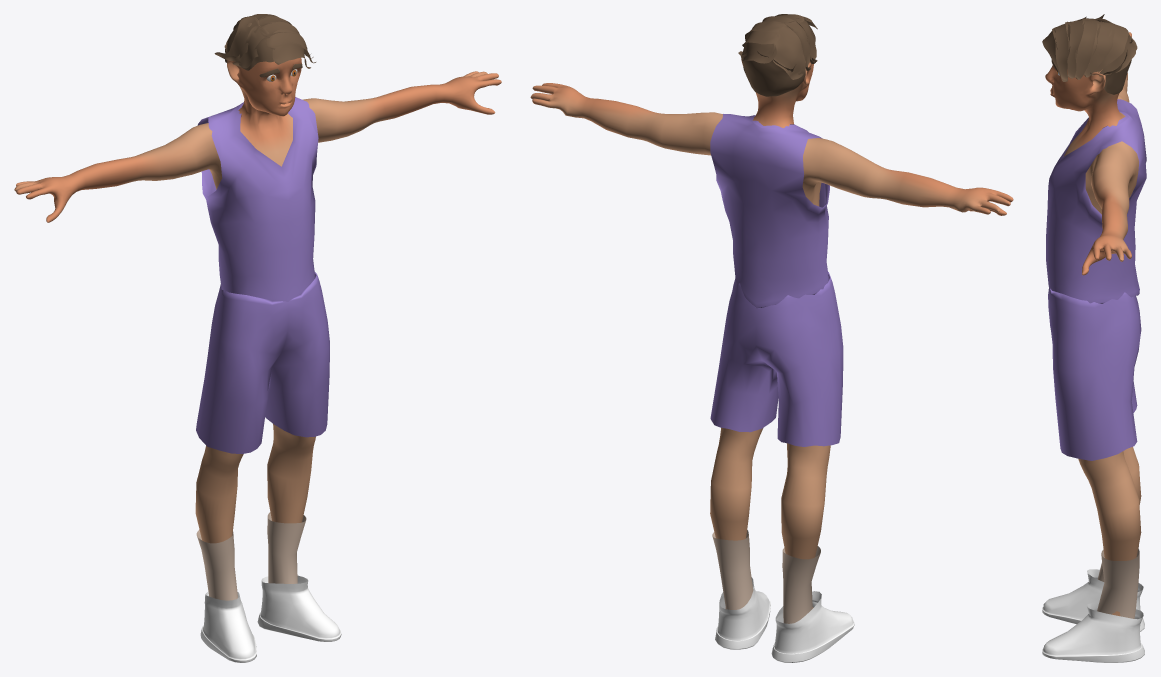
The model's file is jugador_basket2.fbx.
3 renders of one model, left to right at view 1: azimuth 30°, elevation 25°; view 2: azimuth 150°, elevation 25°; view 3: azimuth 270°, elevation 25°, orthographic.
Visible parts, largest first — view 1: prensa_personaje_director8, Extract3_4, Extract1_4, pCube3, prensa_personaje_director9, pPlane61; view 2: prensa_personaje_director8, Extract3_4, Extract1_4, pCube3, prensa_personaje_director9, pPlane63, pPlane62; view 3: Extract3_4, prensa_personaje_director8, Extract1_4, pCube3, prensa_personaje_director9, pPlane23, pPlane24, pPlane21, pPlane22, pPlane25, pPlane63, pPlane26 (+1 smaller).
Boxes of the visible parts, x1,y1,x2,y2 form: prensa_personaje_director8: (14,57,501,543); Extract3_4: (196,272,329,453); Extract1_4: (197,97,318,301); pCube3: (200,575,341,662); prensa_personaje_director9: (196,512,306,600); pPlane61: (214,16,260,60); prensa_personaje_director8: (530,51,1013,608); Extract3_4: (710,272,843,446); Extract1_4: (710,114,829,308); pCube3: (715,577,854,662); prensa_personaje_director9: (712,530,820,623); pPlane63: (738,50,805,96); pPlane62: (772,26,805,79); Extract3_4: (1048,288,1141,460); prensa_personaje_director8: (1045,21,1141,616); Extract1_4: (1046,99,1146,303); pCube3: (1042,569,1144,662); prensa_personaje_director9: (1097,545,1139,618); pPlane23: (1075,20,1100,79); pPlane24: (1084,21,1115,77); pPlane21: (1052,24,1070,80); pPlane22: (1065,20,1084,78); pPlane25: (1090,22,1128,75); pPlane63: (1102,39,1132,94); pPlane26: (1099,35,1137,76).
Size of the model in its own units: 12.72 by 15.74 by 2.41.
